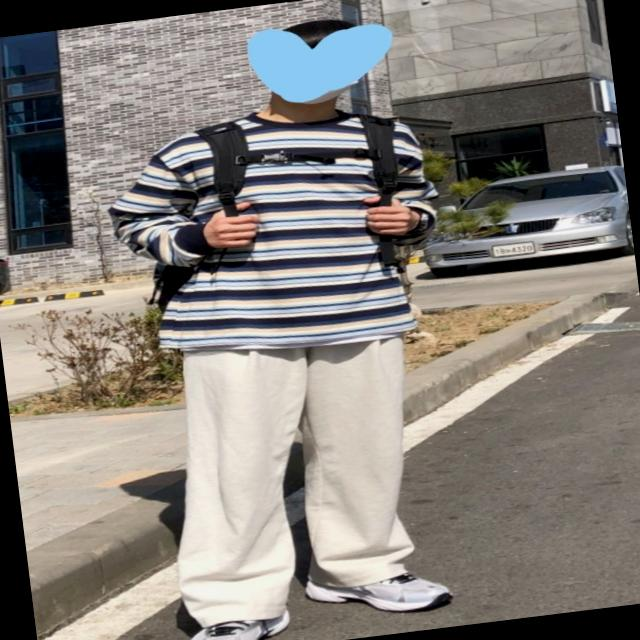cottonpants: (144, 328, 433, 630)
longsleeve: (98, 89, 462, 371)
